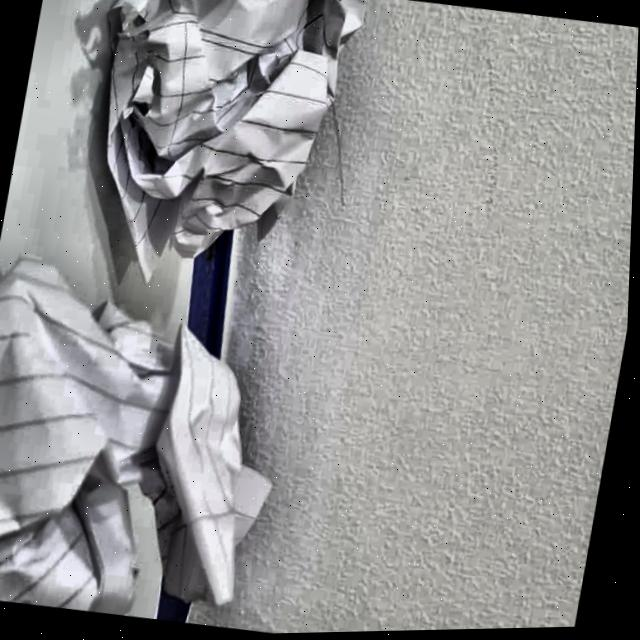paper: (0, 259, 318, 637), (72, 0, 363, 257)
